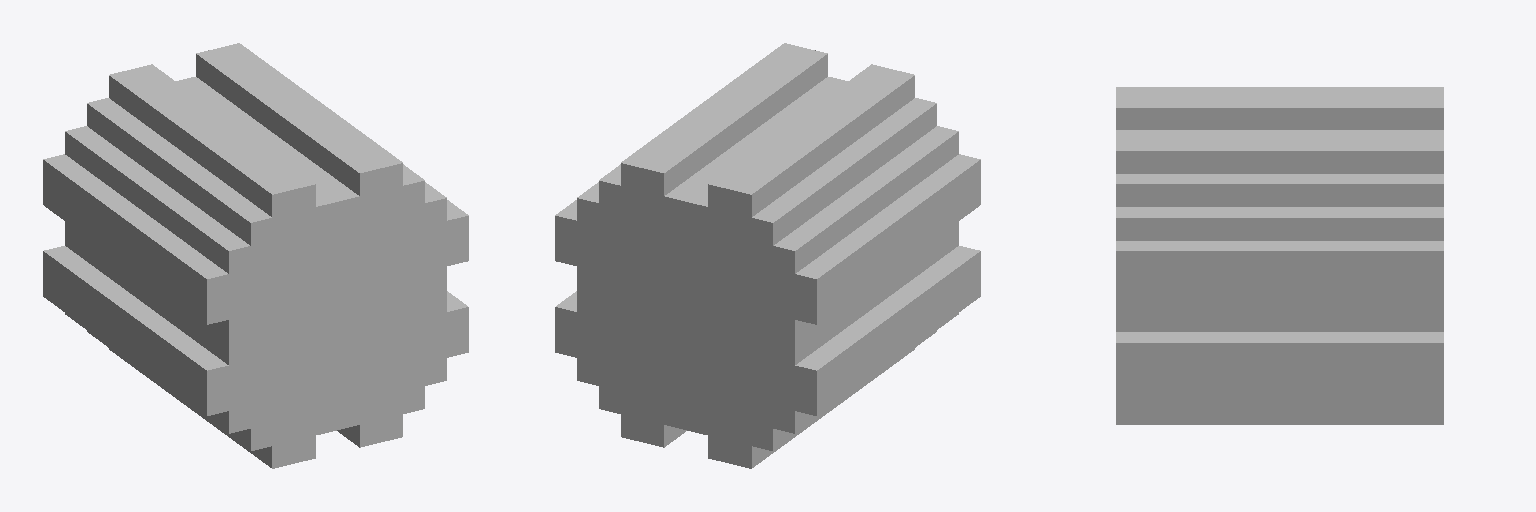
Rendered from Repair_gun-1.obj.
3 views of the same model, side by side, from view 1: azimuth 30°, elevation 25°; view 2: azimuth 150°, elevation 25°; view 3: azimuth 270°, elevation 25° (orthographic).
Visible parts, largest first — view 1: ремпушка-1; view 2: ремпушка-1; view 3: ремпушка-1.
Part boxes in pixels (left/top/right/bottom): ремпушка-1: left=43, top=43, right=468, bottom=468; ремпушка-1: left=555, top=43, right=980, bottom=468; ремпушка-1: left=1116, top=87, right=1443, bottom=424.
Size of the model in its own units: 12 by 12 by 13.